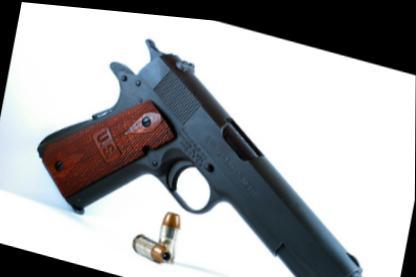pistol: (19, 4, 395, 275)
